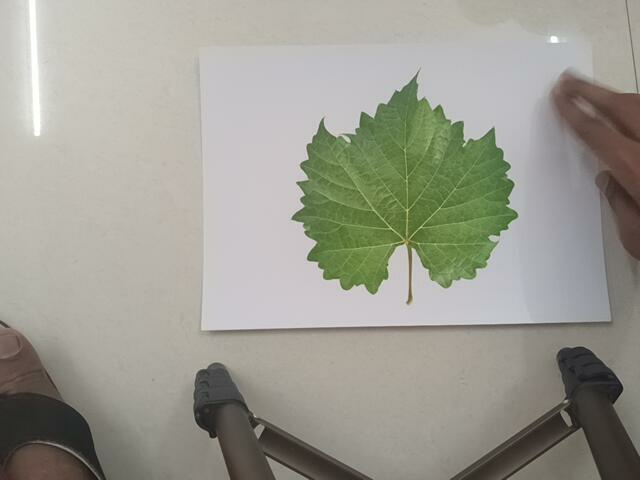Grape_Healthy: (293, 64, 544, 305)
